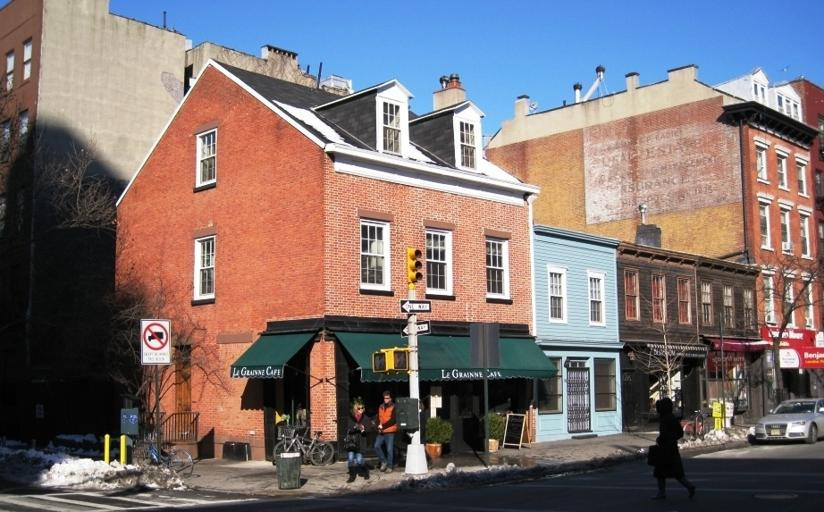non-vehicle: (272, 413, 335, 466), (137, 440, 194, 479), (682, 405, 713, 441)
